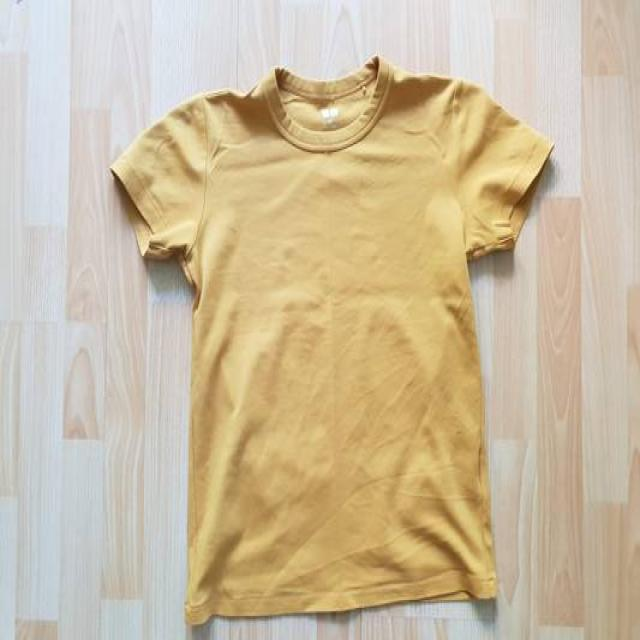shirt: (108, 54, 554, 628)
